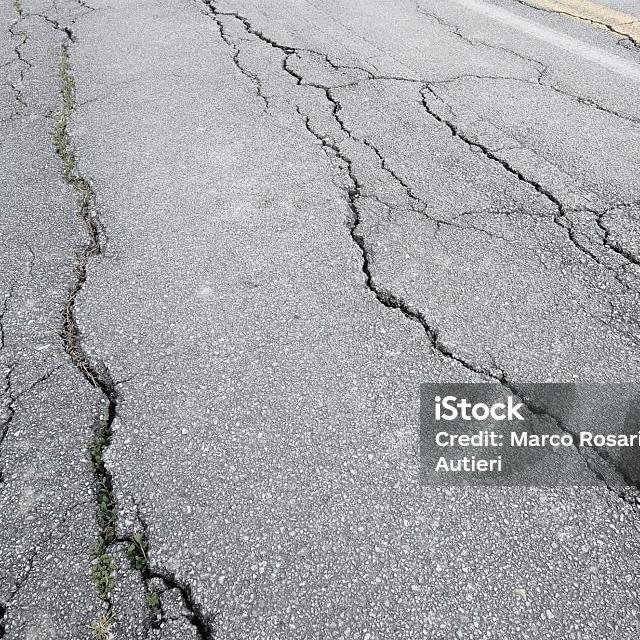retak_memanjang: (129, 0, 640, 372), (0, 0, 238, 640)
